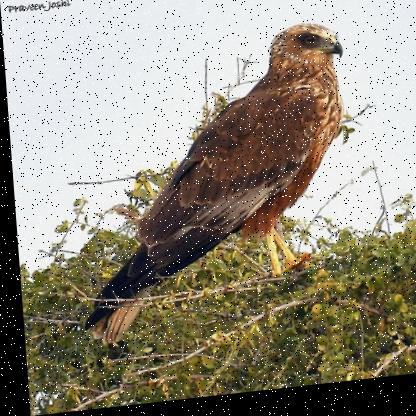Burung: (68, 26, 358, 352)
